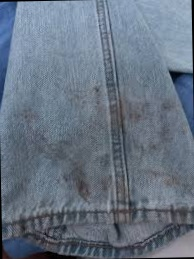earth: (105, 97, 149, 127), (75, 174, 114, 197), (165, 174, 178, 187)
